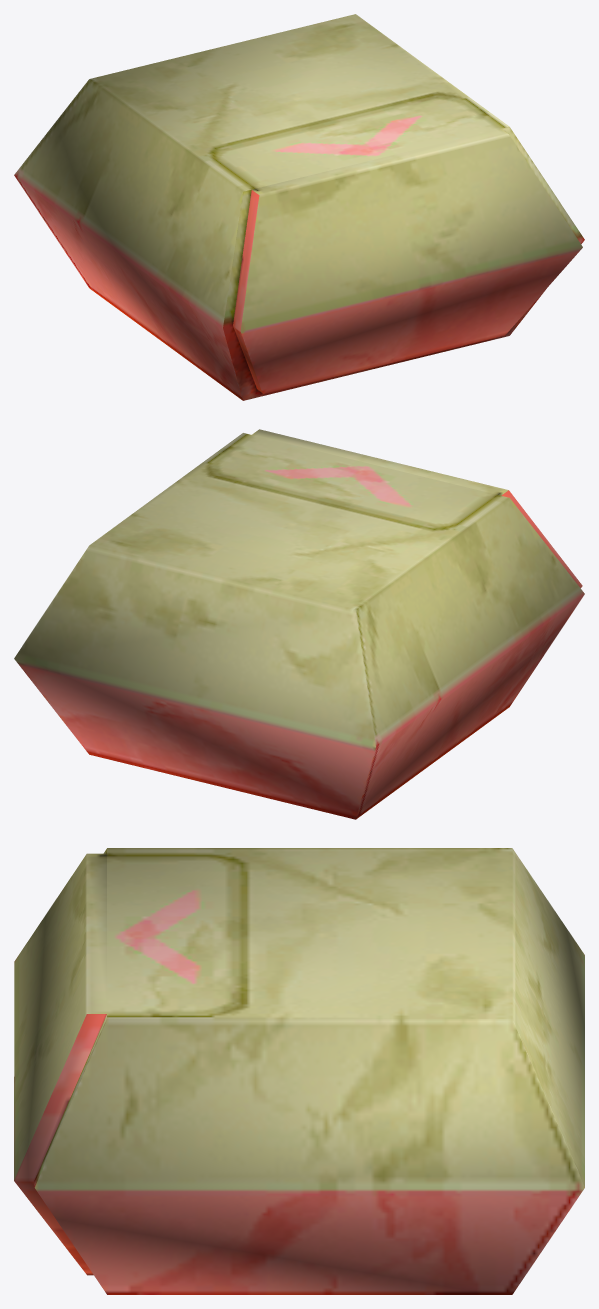
File: burger.glb
3 views of the same model, one above another, from view 1: azimuth 30°, elevation 25°; view 2: azimuth 150°, elevation 25°; view 3: azimuth 270°, elevation 25° (orthographic). The views are drawn at different scales.
Visible parts, largest first — view 1: Box01; view 2: Box01; view 3: Box01.
Boxes of the visible parts, left/top/right/bottom form: Box01: left=14, top=14, right=584, bottom=400; Box01: left=14, top=429, right=584, bottom=819; Box01: left=14, top=848, right=584, bottom=1294.
Bounding box in the file's own units: 11.45 × 6.32 × 11.88.
1 material, 1 textured.
